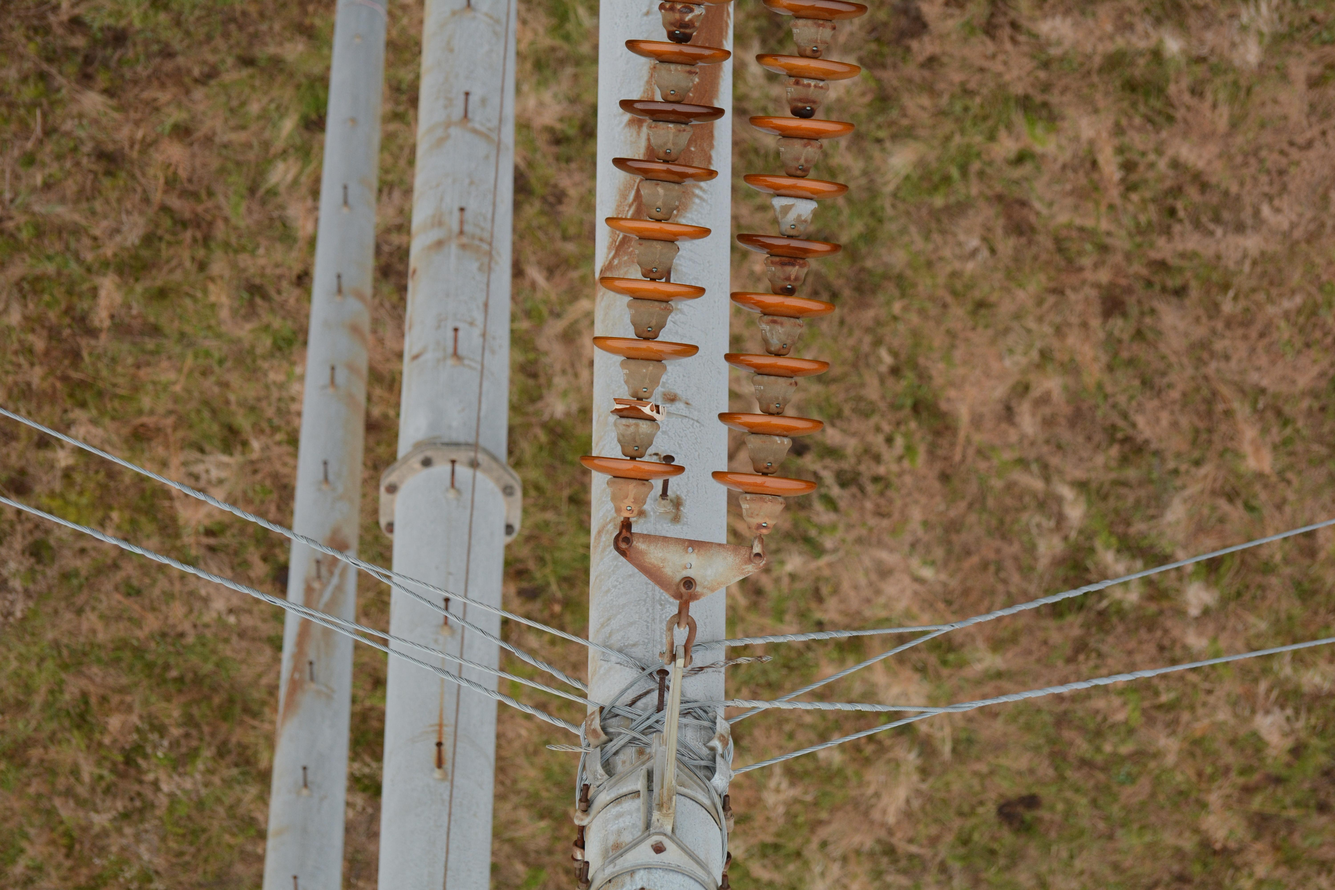damaged: (597, 368, 669, 428)
insulator: (712, 0, 870, 497), (576, 0, 730, 492)
